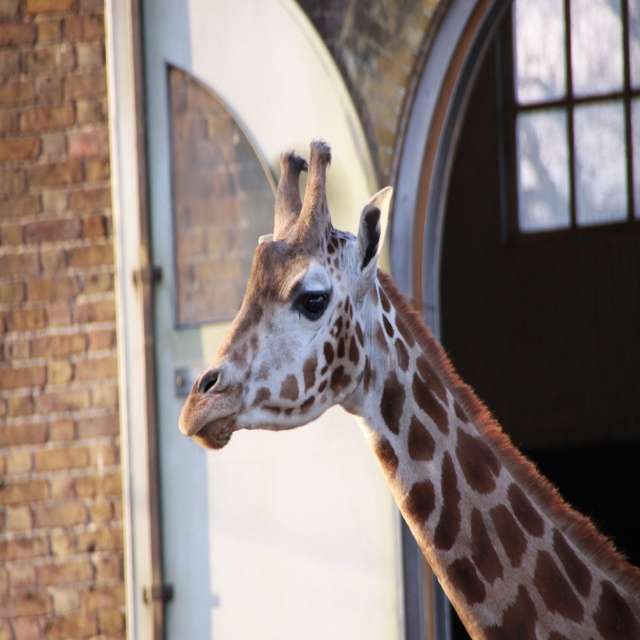Giraffe: (173, 142, 640, 639)
